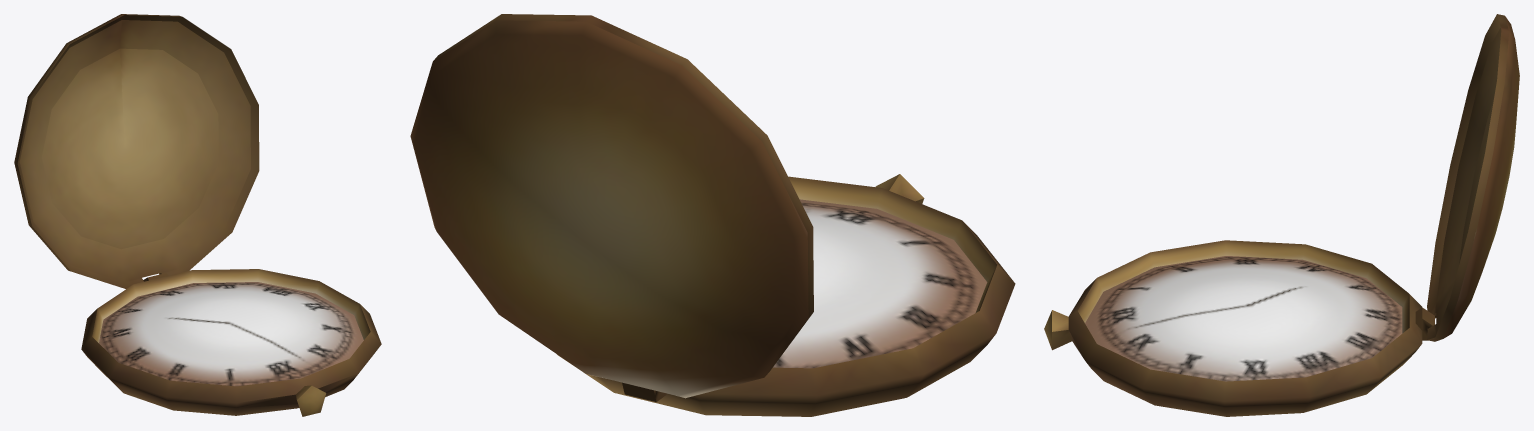
Rendered from pocket_watch.glb.
3 renders of one model, left to right at view 1: azimuth 30°, elevation 25°; view 2: azimuth 150°, elevation 25°; view 3: azimuth 270°, elevation 25°, orthographic. The views are drawn at different scales.
Parts seen in each view (by area): view 1: SM_pocketwatch; view 2: SM_pocketwatch; view 3: SM_pocketwatch.
Part boxes in pixels (x1,y1,x2,y2): SM_pocketwatch: [14, 14, 381, 416]; SM_pocketwatch: [410, 14, 1015, 416]; SM_pocketwatch: [1044, 14, 1519, 416].
Bounding box in the file's own units: 0.0772 × 0.0809 × 0.1018.
Materials: 1 (1 with a texture image).
